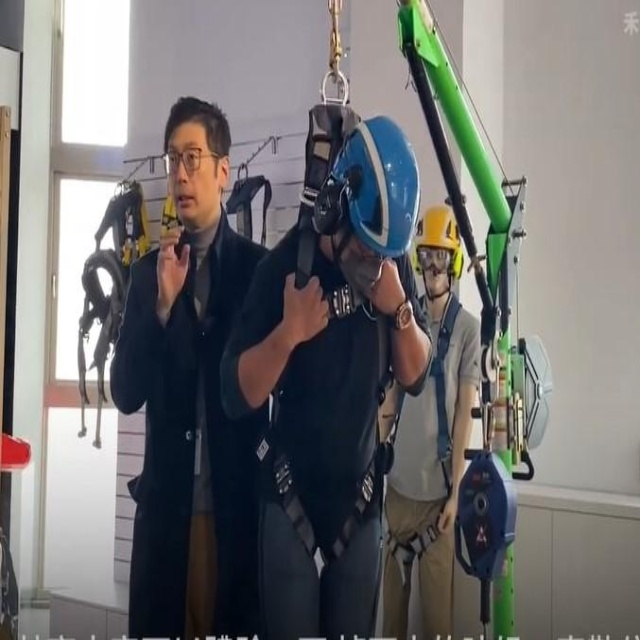Arnes_seguridad: (258, 181, 401, 578), (380, 290, 464, 577)
